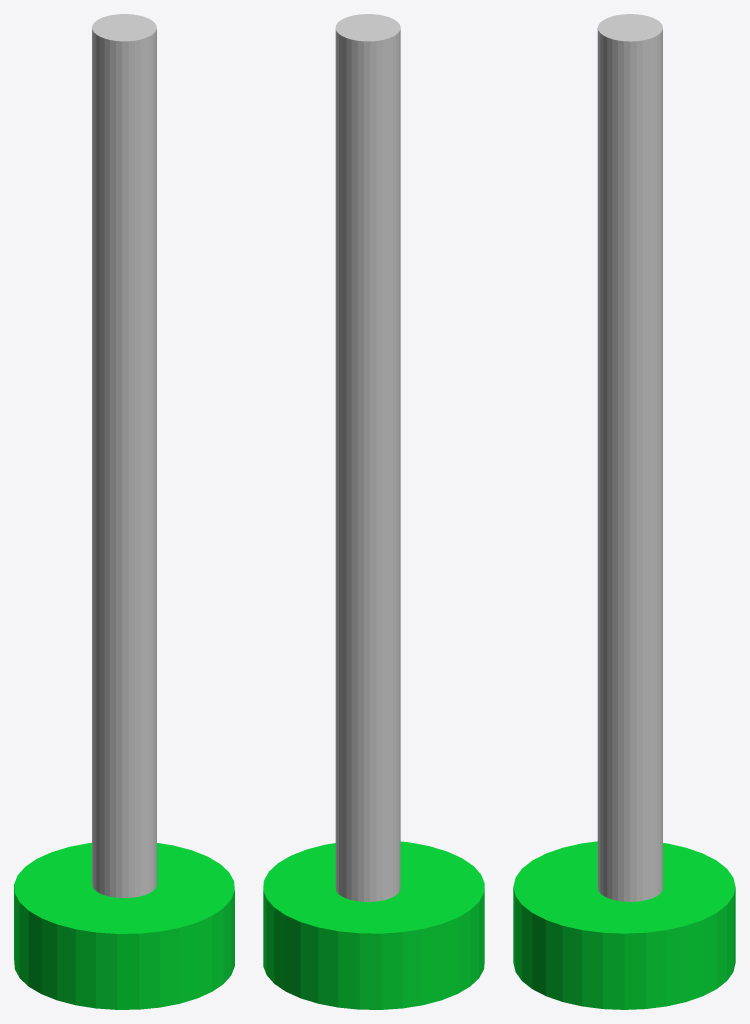
Rendered from Towers of Hanoi 1 Ring top.fbx.
3 renders of one model, left to right at view 1: azimuth 30°, elevation 25°; view 2: azimuth 150°, elevation 25°; view 3: azimuth 270°, elevation 25°, orthographic.
Parts seen in each view (by area): view 1: Cylinder, Cylinder.004; view 2: Cylinder, Cylinder.004; view 3: Cylinder, Cylinder.004.
Boxes of the visible parts, x1,y1,x2,y2 form: Cylinder: (92, 14, 156, 897); Cylinder.004: (14, 843, 234, 1009); Cylinder: (335, 14, 400, 901); Cylinder.004: (263, 841, 484, 1009); Cylinder: (597, 14, 662, 901); Cylinder.004: (513, 841, 735, 1009).
Bounding box in the file's own units: 110 × 511 × 110.
